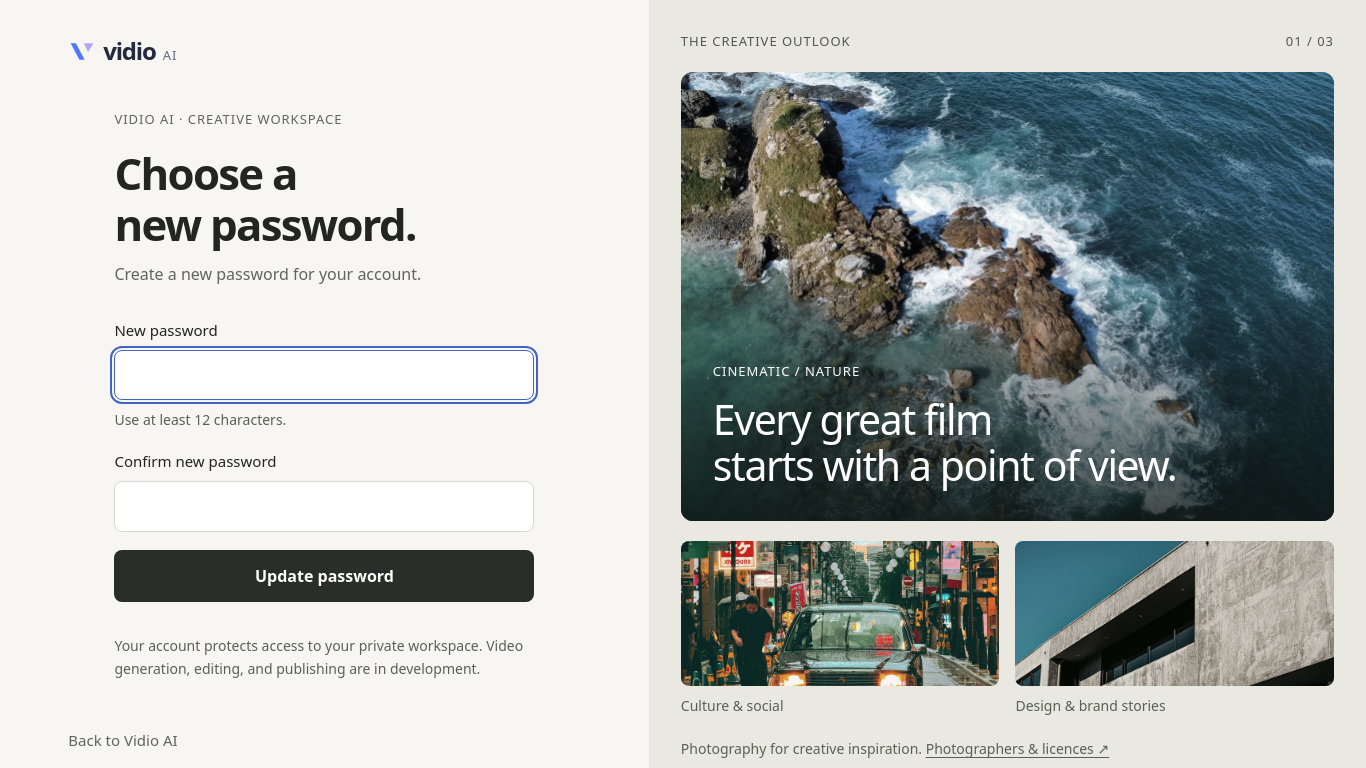
it: Supabase authentication flows › requires an active recovery session before accepting a new password
The image size is (1366, 768).
Expected: the heading "Choose a new password." is shown, [114,143,416,254]
Type "a-new-password" into the password field named "password" at [324, 375], box [114,350,534,400]
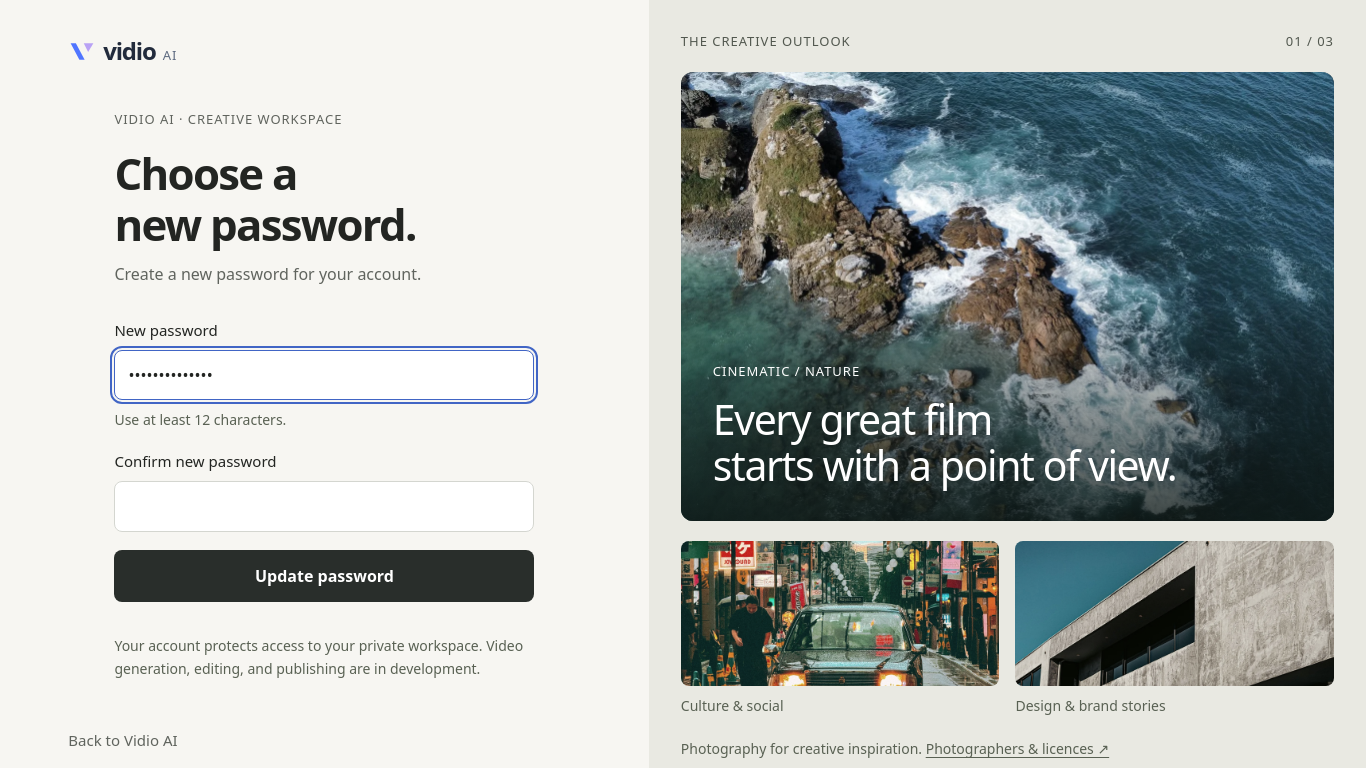
Type "a-new-password" into the password field labelled "Confirm new password" at [324, 506], box [114,481,534,532]
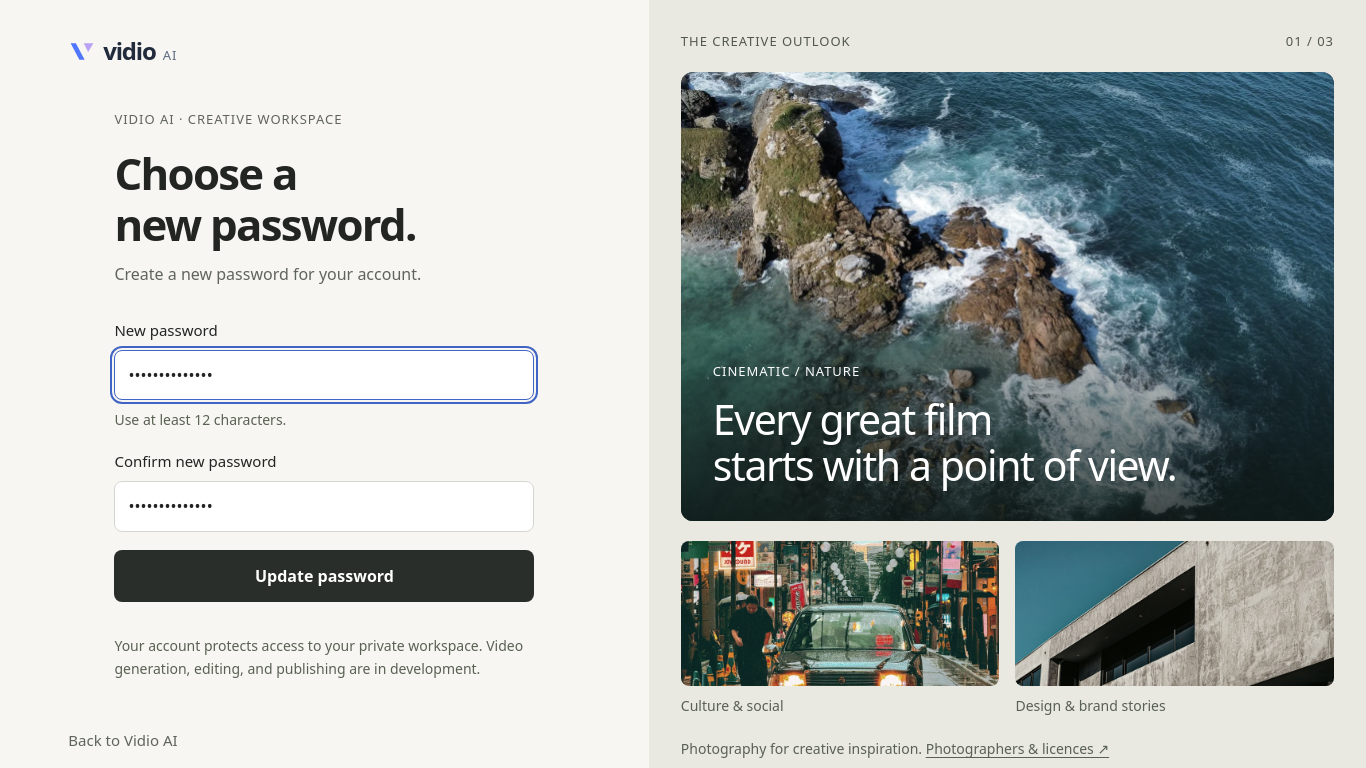
Click the button "Update password" at [324, 576], box [114,550,534,602]
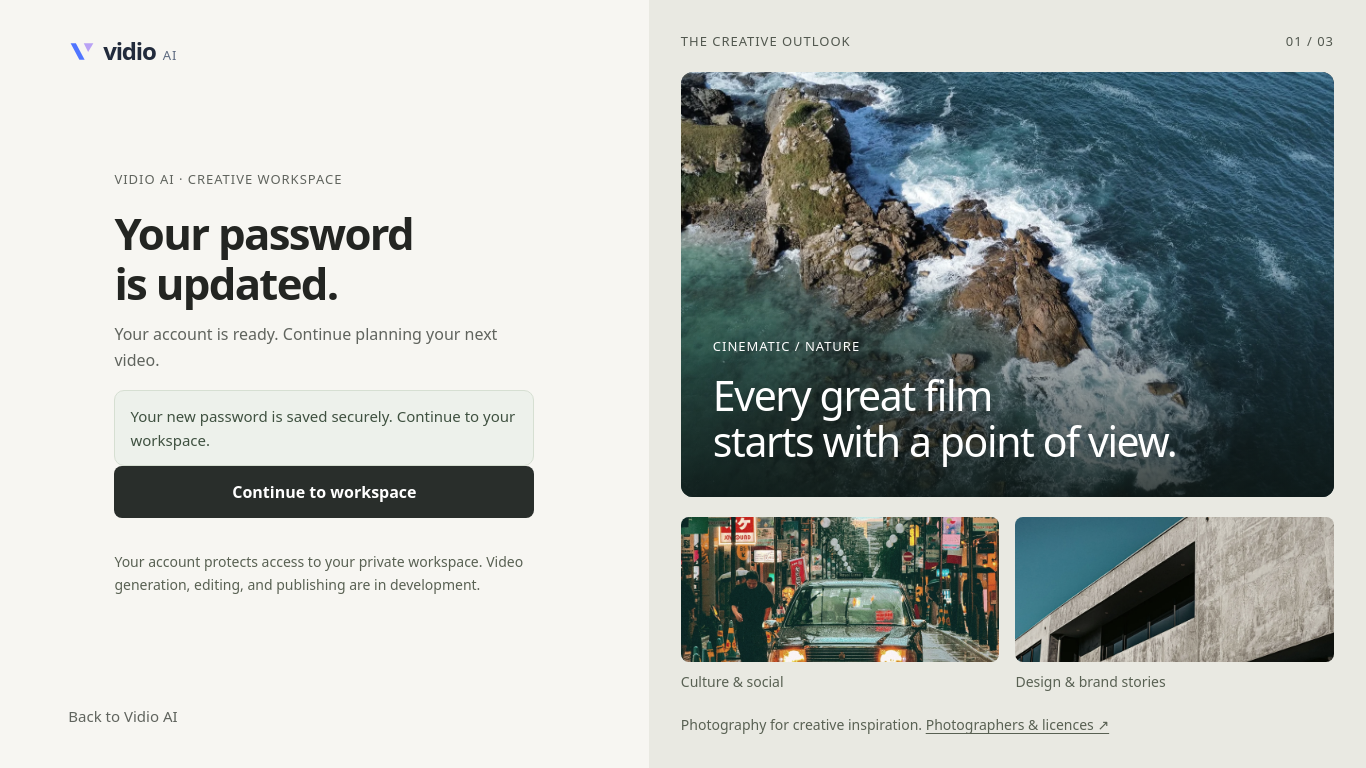
Result: the heading "Your password is updated." is shown at [114,203,413,313]
